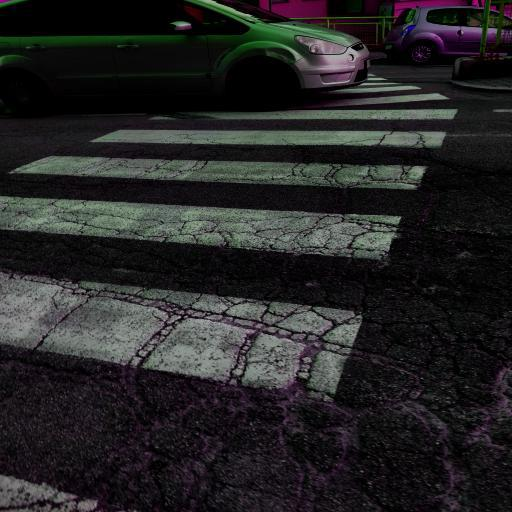crosswalk: (4, 124, 448, 204)
